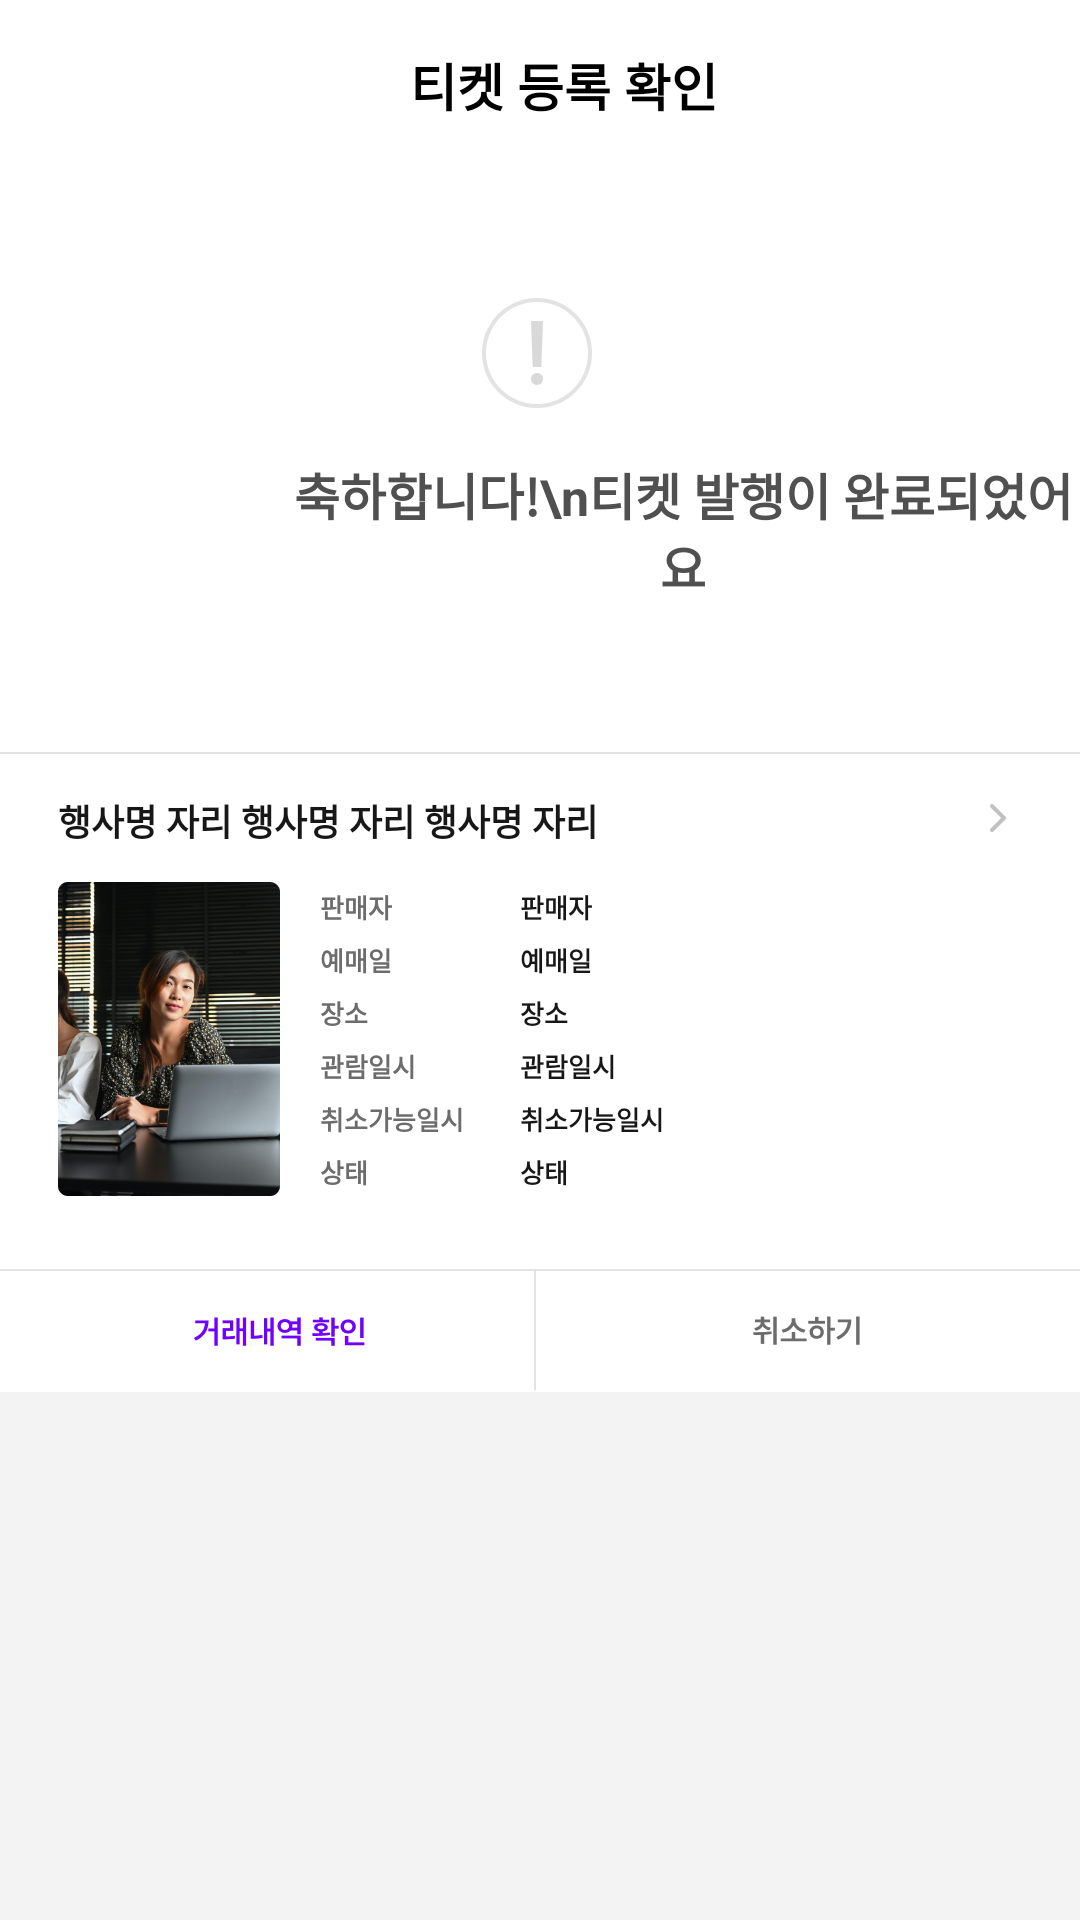

Icon bounding boxes for this 1080*1920 phone screenshot, format rect(x1, y1, x2, y2):
bang: rect(482, 298, 592, 408)
right: rect(990, 804, 1006, 832)
